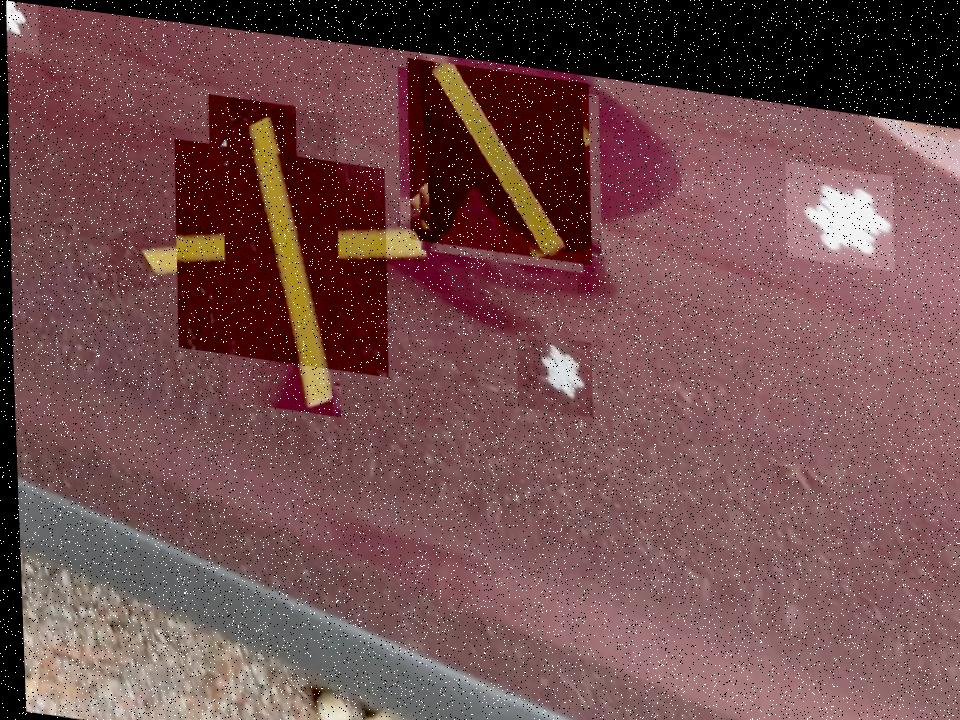dent: (783, 141, 895, 249), (206, 88, 297, 185), (513, 319, 591, 403), (5, 0, 39, 54)
scratch: (170, 134, 389, 368), (404, 47, 594, 250)
